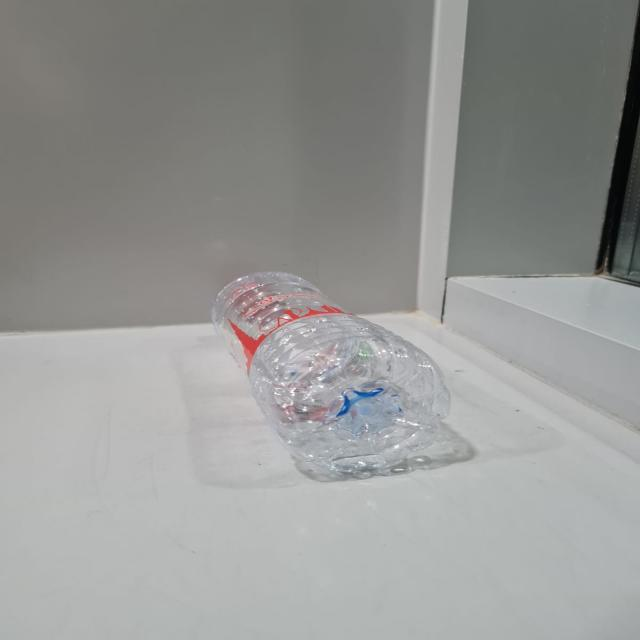chai: (212, 272, 449, 479)
